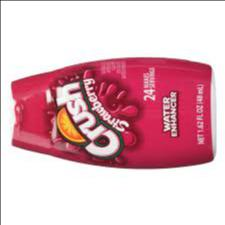Plastic: (4, 54, 217, 170)
